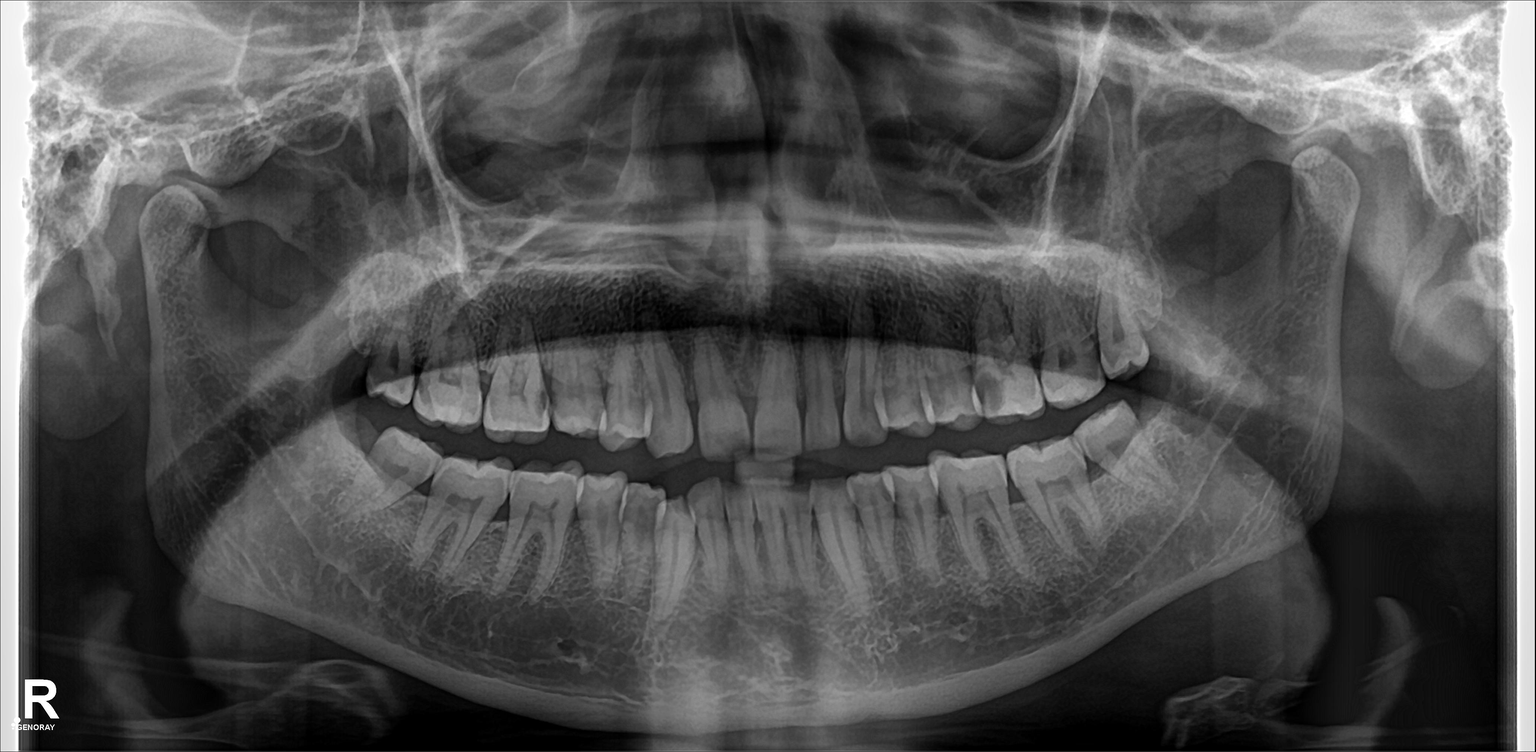Dental Caries: (961, 370, 1009, 414)
Impacted Third Molar: (1073, 421, 1165, 487)
Missing Tooth: (339, 387, 375, 466)
